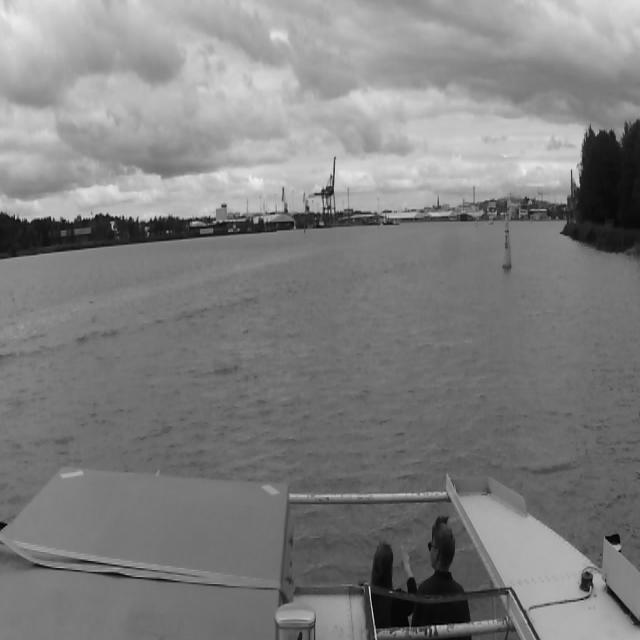buoy: (502, 217, 512, 267)
ship: (460, 198, 468, 222)
